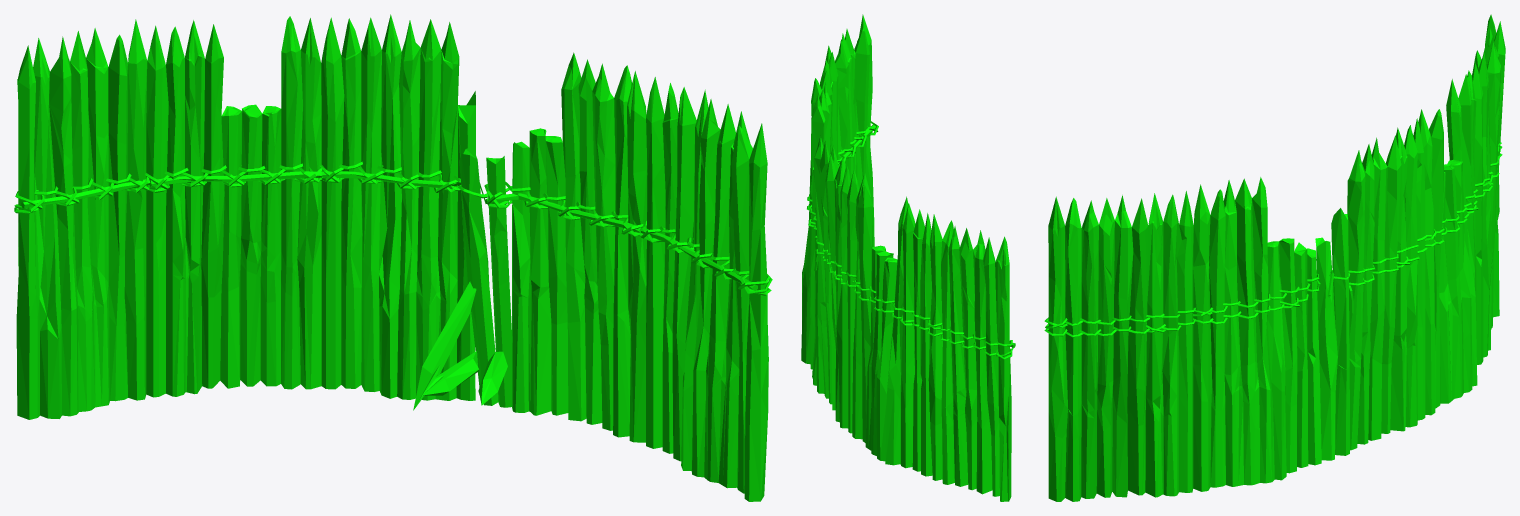
The model's file is SM_Palisade_Corner_Round_9x9_Window_Convex_A_Broken.fbx.
3 views of the same model, side by side, from view 1: azimuth 30°, elevation 25°; view 2: azimuth 150°, elevation 25°; view 3: azimuth 270°, elevation 25° (orthographic). The views are drawn at different scales.
Parts seen in each view (by area): view 1: palisade-corner-round-9x9-window-convex-a-broken; view 2: palisade-corner-round-9x9-window-convex-a-broken; view 3: palisade-corner-round-9x9-window-convex-a-broken.
Part boxes in pixels (left/top/right/bottom): palisade-corner-round-9x9-window-convex-a-broken: left=14, top=14, right=772, bottom=501; palisade-corner-round-9x9-window-convex-a-broken: left=801, top=14, right=1015, bottom=501; palisade-corner-round-9x9-window-convex-a-broken: left=1044, top=14, right=1505, bottom=501.
Size of the model in its own units: 9.35 by 6.86 by 9.41.
